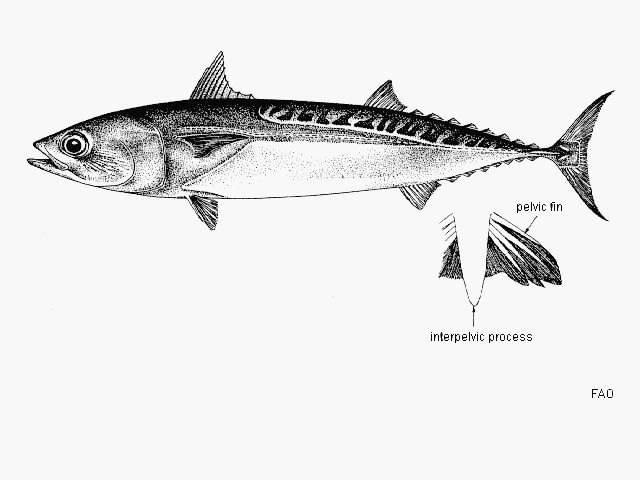fish: (28, 52, 609, 225)
